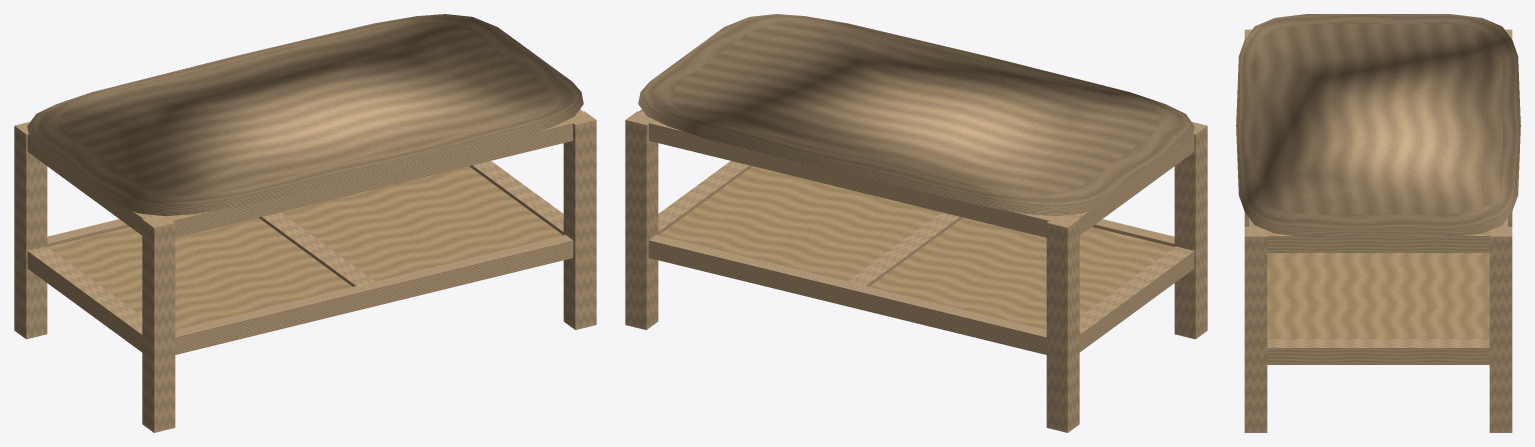
The picture shows the model from 3 angles, left to right: view 1: azimuth 30°, elevation 25°; view 2: azimuth 150°, elevation 25°; view 3: azimuth 270°, elevation 25°; orthographic projection. The views are drawn at different scales.
Parts seen in each view (by area): view 1: 1 tabletop, 16 right_rattan_panel, 15 left_rattan_panel, 11 back_shelf_rail, 8 back_left_leg, 3 back_top_apron, 9 back_right_leg, 6 front_left_leg, 12 left_shelf_rail, 14 center_shelf_divider, 13 right_shelf_rail, 4 left_top_apron (+1 smaller); view 2: 1 tabletop, 16 right_rattan_panel, 15 left_rattan_panel, 10 front_shelf_rail, 6 front_left_leg, 2 front_top_apron, 7 front_right_leg, 8 back_left_leg, 12 left_shelf_rail, 14 center_shelf_divider, 13 right_shelf_rail, 4 left_top_apron (+1 smaller); view 3: 1 tabletop, 16 right_rattan_panel, 13 right_shelf_rail, 7 front_right_leg, 9 back_right_leg, 5 right_top_apron.
Boxes of the visible parts, x1,y1,x2,y2 form: 1 tabletop: (27,14,583,216); 16 right_rattan_panel: (280,166,563,281); 15 left_rattan_panel: (47,217,352,329); 11 back_shelf_rail: (175,235,573,354); 8 back_left_leg: (142,215,175,432); 3 back_top_apron: (166,119,573,237); 9 back_right_leg: (563,111,596,329); 6 front_left_leg: (14,122,47,339); 12 left_shelf_rail: (27,246,142,352); 14 center_shelf_divider: (259,212,374,286); 13 right_shelf_rail: (469,161,563,234); 4 left_top_apron: (25,131,164,235); 1 tabletop: (638,14,1194,216); 16 right_rattan_panel: (658,166,941,281); 15 left_rattan_panel: (869,217,1174,329); 10 front_shelf_rail: (648,235,1046,354); 6 front_left_leg: (1046,215,1079,432); 2 front_top_apron: (648,119,1055,237); 7 front_right_leg: (625,111,658,329); 8 back_left_leg: (1174,122,1207,339); 12 left_shelf_rail: (1079,246,1194,352); 14 center_shelf_divider: (847,212,962,286); 13 right_shelf_rail: (658,161,752,234); 4 left_top_apron: (1057,131,1196,235); 1 tabletop: (1236,14,1520,237); 16 right_rattan_panel: (1267,253,1489,339); 13 right_shelf_rail: (1267,339,1489,364); 7 front_right_leg: (1489,226,1512,432); 9 back_right_leg: (1244,226,1267,432); 5 right_top_apron: (1261,228,1495,252).
Bounding box in the file's own units: 2.22 × 1 × 1.22.
2 materials, 2 textured.
